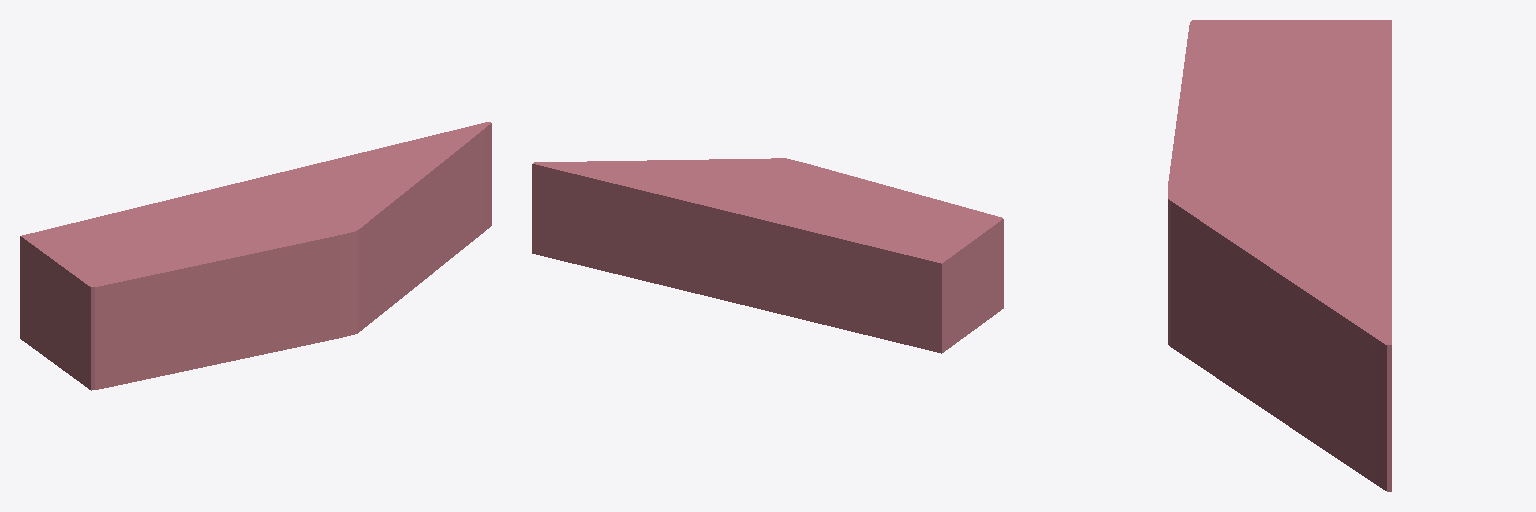
The robot description file, URDF, robot "convex_mesh":
<?xml version="1.0"?>
    <robot name="convex_mesh">
    <link name="base_link">
        <!-- Visual Representation -->
        <visual>
            <geometry>
                <mesh filename="polygon_0.obj" scale="1 1 1"/>
            </geometry>
            <material name="custom_color">
                <color rgba="0.7917250380826646 0.5288949197529045 0.5680445610939323 1.0"/>
            </material>
        </visual>

        <!-- Collision Geometry -->
        <collision>
            <geometry>
                <mesh filename="polygon_0.obj" scale="1 1 1"/>
            </geometry>
        </collision>

        <!-- Inertial Properties -->
        <inertial>
            <mass value="1.0"/>
            <origin xyz="-0.030902785829331383 0.08108349527605205 0.015"/>
            <inertia ixx="0.01" ixy="0.0" ixz="0.0"
                    iyy="0.01" iyz="0.0"
                    izz="0.01"/>
        </inertial>
    </link>
    </robot>

--- Render facts (derived) ---
Views: 3 orthographic renders of the robot side by side, from view 1: azimuth 30°, elevation 25°; view 2: azimuth 150°, elevation 25°; view 3: azimuth 270°, elevation 25°.
Model convex_mesh with 1 links and 0 joints (none), rooted at base_link, posed all joints at 0.
Links seen in each view (by area): view 1: base_link; view 2: base_link; view 3: base_link.
Link boxes in pixels (x1,y1,x2,y2): base_link: (20, 122, 491, 390); base_link: (532, 158, 1003, 353); base_link: (1168, 20, 1391, 491).
Size in the robot's own frame: 0.1455 by 0.0424 by 0.0305 metres.
Meshes: 1 distinct files referenced, 1 mesh visuals loaded (1 OBJ).